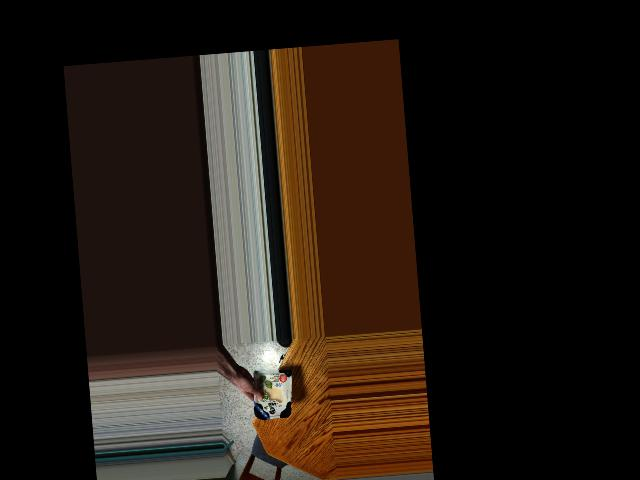cheese: (252, 359, 295, 428)
